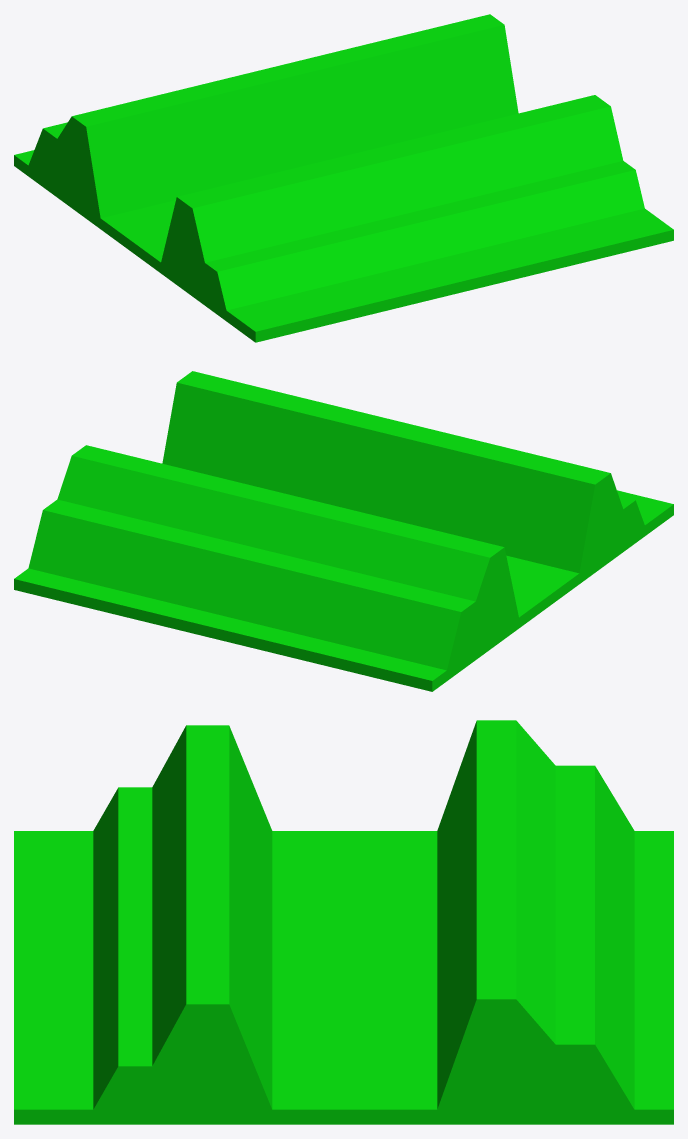
The model's file is Straightpath.fbx.
3 renders of one model, top to bottom at view 1: azimuth 30°, elevation 25°; view 2: azimuth 150°, elevation 25°; view 3: azimuth 270°, elevation 25°, orthographic. The views are drawn at different scales.
Parts seen in each view (by area): view 1: Cube; view 2: Cube; view 3: Cube.
Part boxes in pixels (bbox=[...]): Cube: bbox=[14, 14, 673, 342]; Cube: bbox=[14, 371, 673, 691]; Cube: bbox=[14, 720, 673, 1124].
Size of the model in its own units: 8000 by 1679 by 8000.
